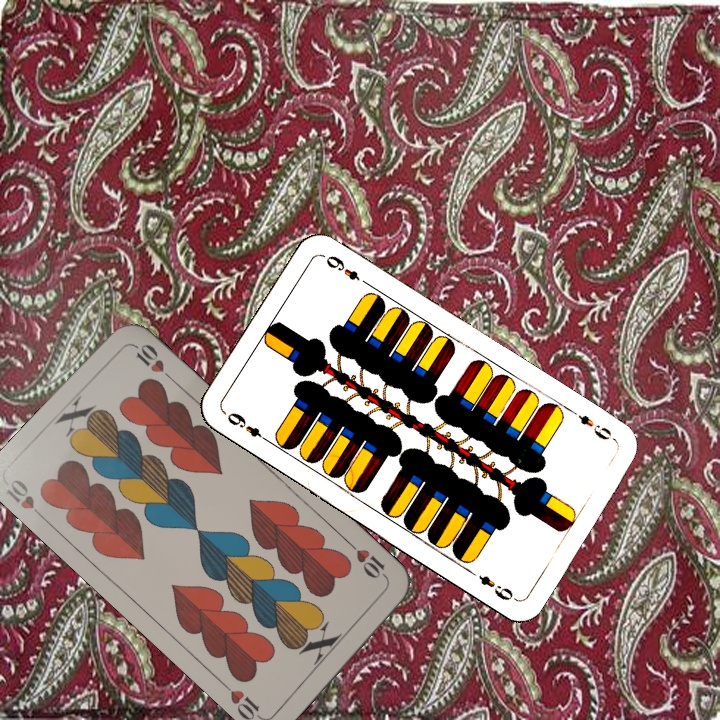E9: (223, 408, 273, 446), (566, 405, 615, 443)
H10: (1, 475, 50, 524), (344, 538, 392, 584)
